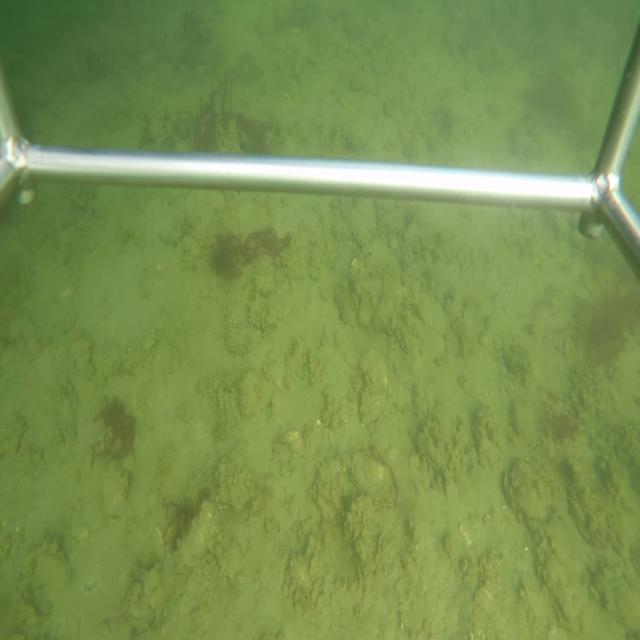Oyster-Closed: (500, 457, 552, 525), (347, 450, 401, 512), (416, 430, 449, 479)
